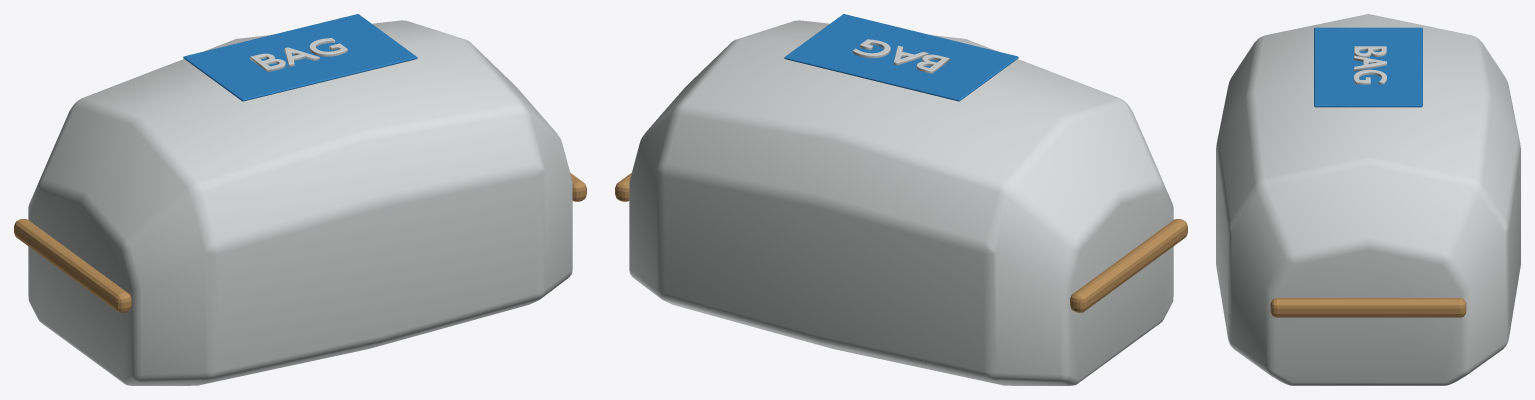
The model's file is bag_product_load.glb.
The picture shows the model from 3 angles, left to right: view 1: azimuth 30°, elevation 25°; view 2: azimuth 150°, elevation 25°; view 3: azimuth 270°, elevation 25°; orthographic projection. The views are drawn at different scales.
Parts seen in each view (by area): view 1: BAG_BODY, BAG_top_label, BAG_sealed_end_-0.44, BAG_label_text; view 2: BAG_BODY, BAG_top_label, BAG_sealed_end_-0.44, BAG_label_text; view 3: BAG_BODY, BAG_top_label, BAG_sealed_end_0.44, BAG_label_text.
Boxes of the visible parts, <box> form: BAG_BODY: <box>28,20,572,385</box>; BAG_top_label: <box>183,14,417,101</box>; BAG_sealed_end_-0.44: <box>14,219,131,312</box>; BAG_label_text: <box>250,38,347,72</box>; BAG_BODY: <box>629,20,1173,385</box>; BAG_top_label: <box>784,14,1018,101</box>; BAG_sealed_end_-0.44: <box>1070,219,1187,312</box>; BAG_label_text: <box>852,39,949,73</box>; BAG_BODY: <box>1216,14,1520,385</box>; BAG_top_label: <box>1314,27,1422,107</box>; BAG_sealed_end_0.44: <box>1270,298,1466,317</box>; BAG_label_text: <box>1353,46,1386,84</box>.
Size of the model in its own units: 0.91 by 0.459 by 0.56.
